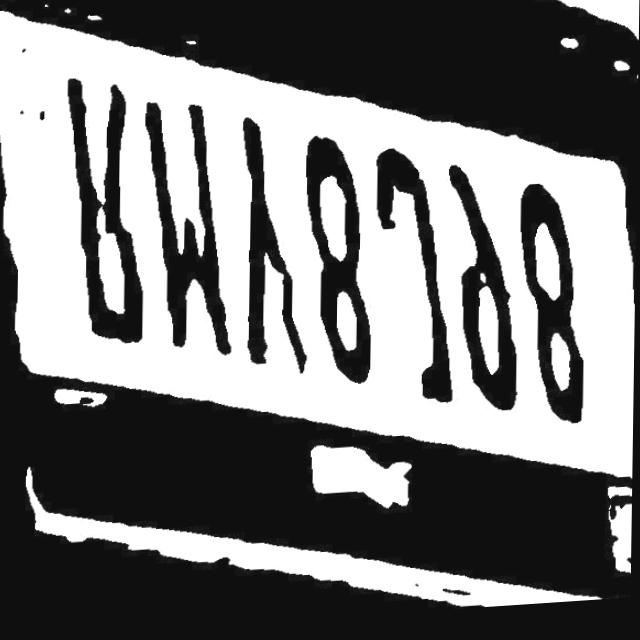8: (296, 130, 377, 393), (511, 184, 587, 444)
9: (439, 161, 515, 424)
j: (369, 142, 455, 413)
m: (136, 86, 231, 365)
r: (56, 59, 146, 350)
y: (233, 105, 309, 384)
